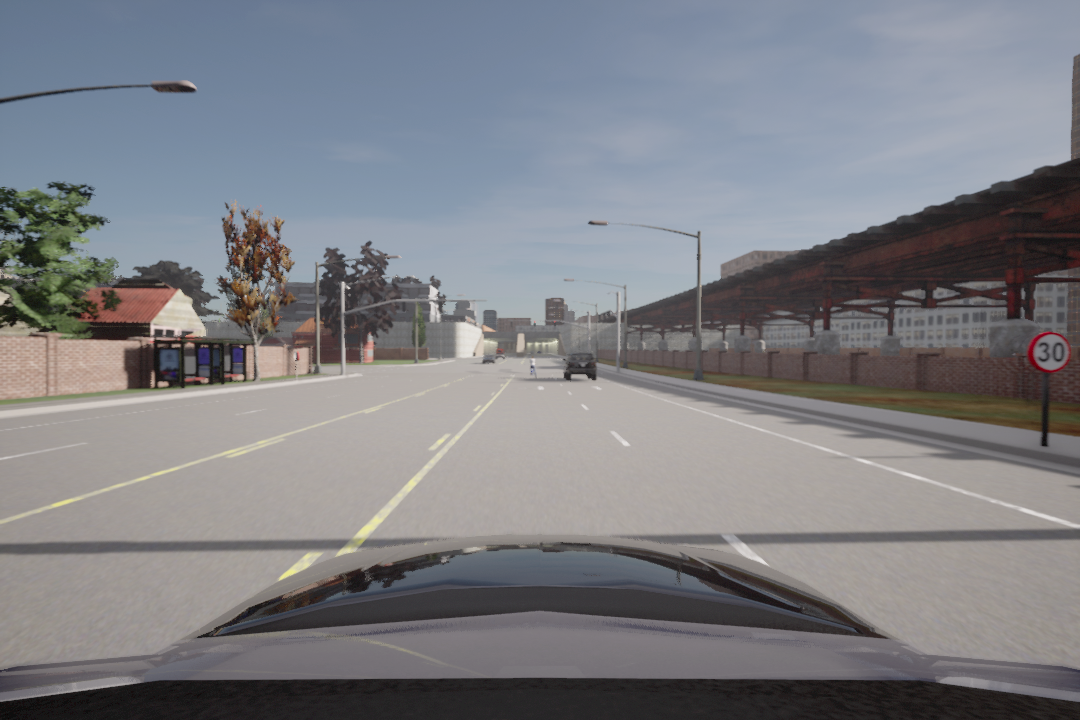TrafficSign_speed: (1027, 327, 1071, 374)
